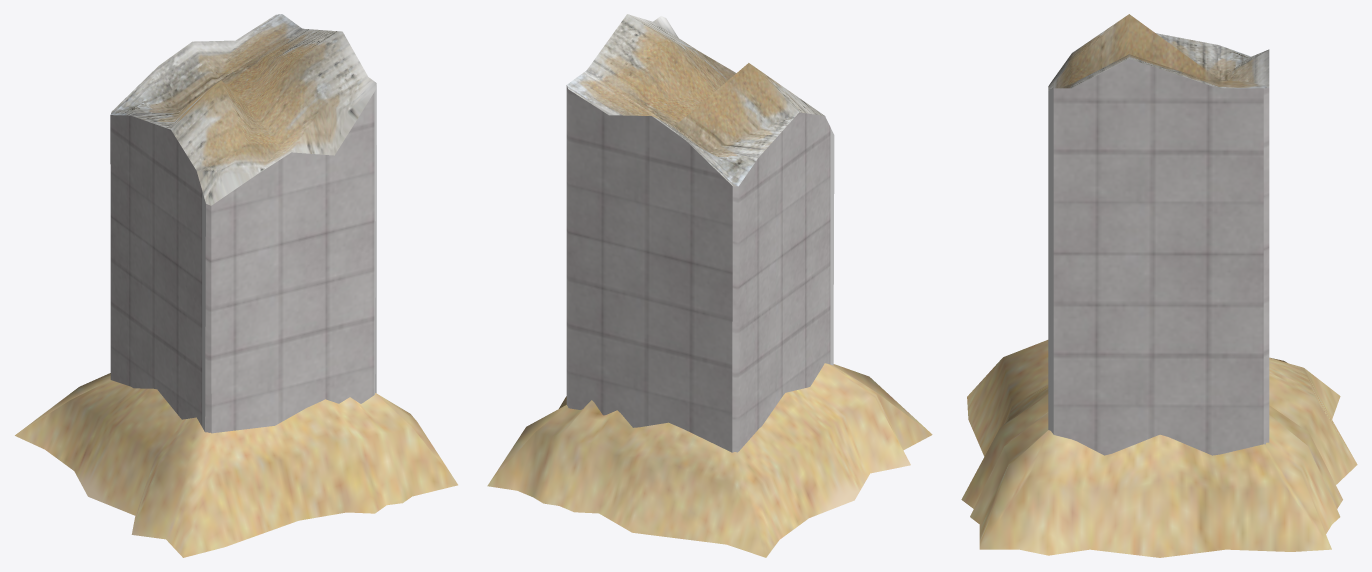
File: TDHus7 broken.fbx
The picture shows the model from 3 angles, left to right: view 1: azimuth 30°, elevation 25°; view 2: azimuth 150°, elevation 25°; view 3: azimuth 270°, elevation 25°; orthographic projection. The views are drawn at different scales.
Parts seen in each view (by area): view 1: TDHus_VI1; view 2: TDHus_VI1; view 3: TDHus_VI1.
Part boxes in pixels (box(x1,y1,x2,y2)): TDHus_VI1: box(15, 14, 457, 557); TDHus_VI1: box(487, 14, 932, 557); TDHus_VI1: box(961, 14, 1357, 557).
Size of the model in its own units: 44.46 by 56.85 by 43.97.
